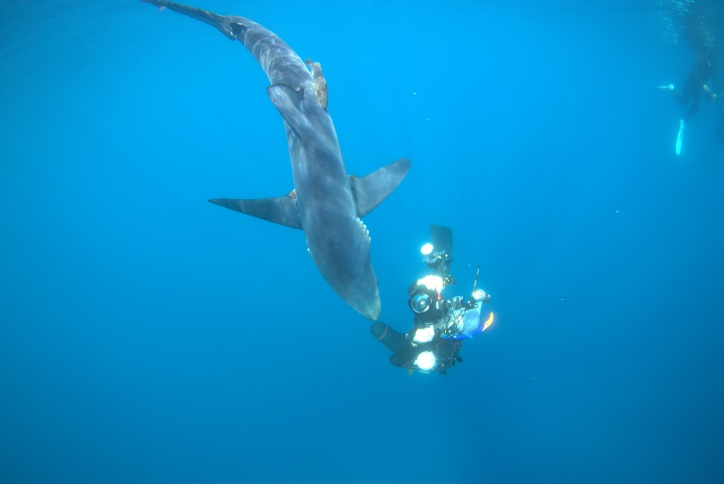Azul: (126, 1, 431, 348)
